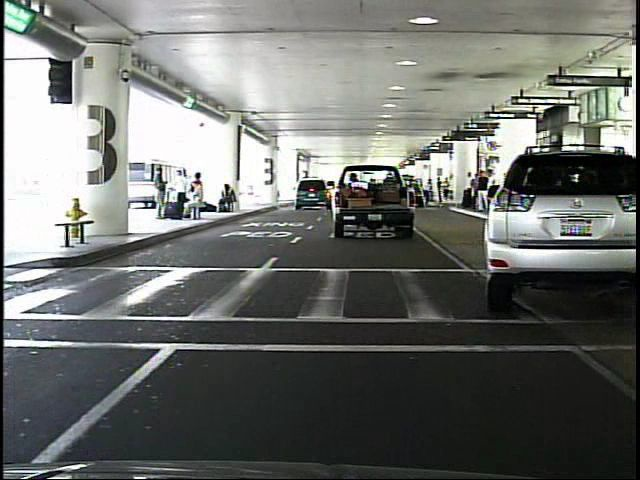person: (151, 165, 172, 221), (475, 167, 492, 214), (434, 174, 445, 205)
